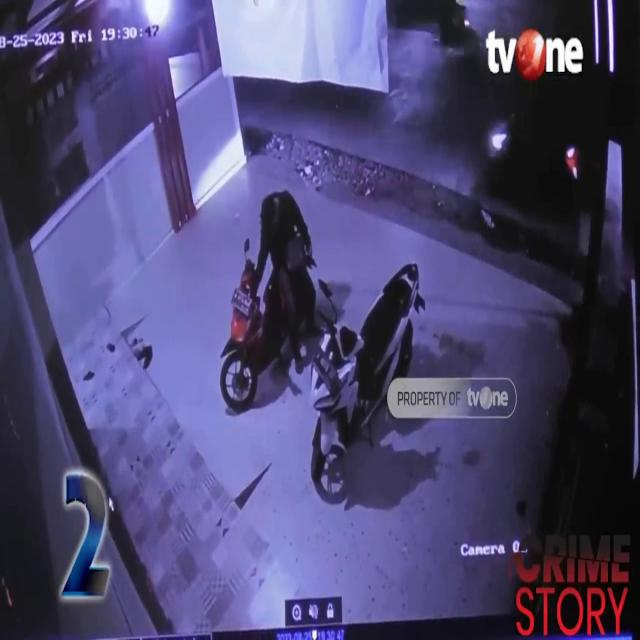pencurian: (224, 188, 428, 496)
